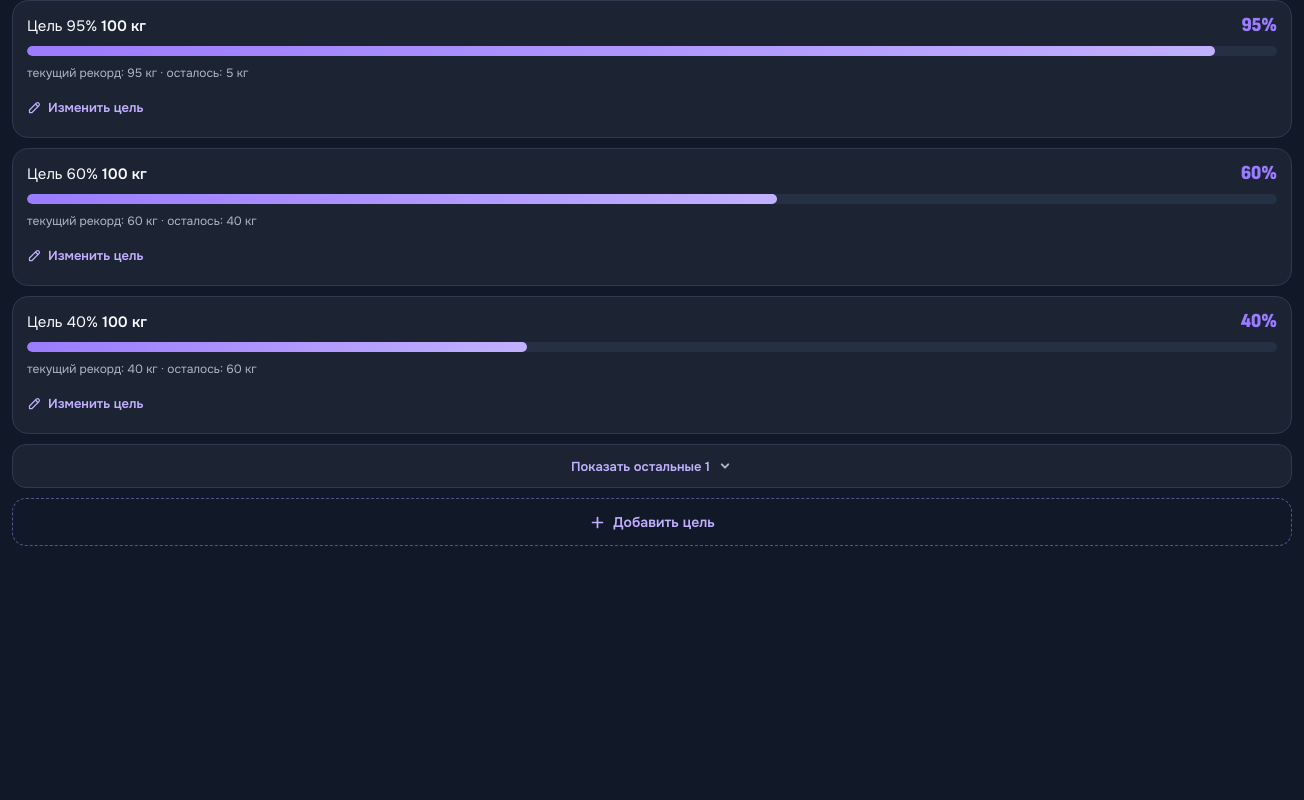
Test: GoalsList › раскрывает все цели в порядке прогресса и снова сворачивает список
Click the button "Показать остальные 1" at (652, 466), box x1=12 y1=444 x2=1292 y2=488
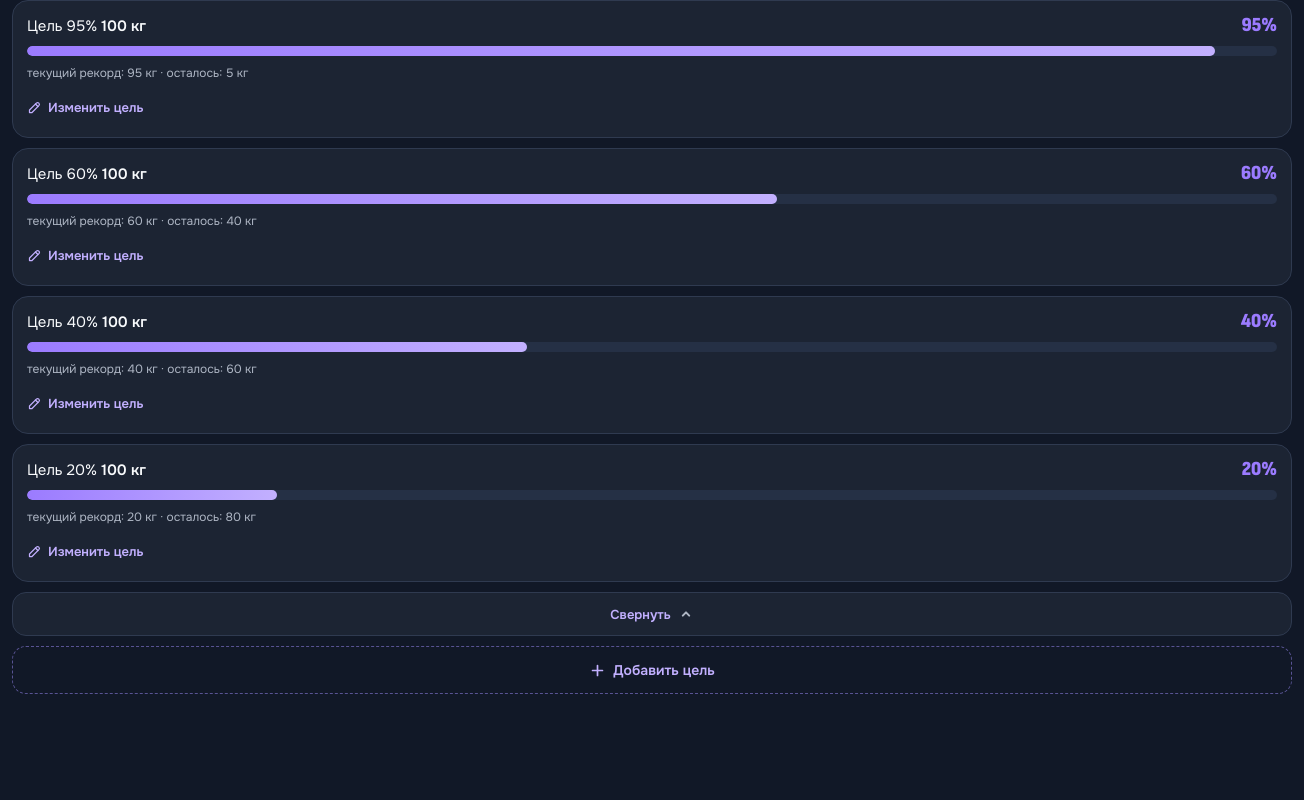
Click the button "Свернуть" at (652, 614), box x1=12 y1=592 x2=1292 y2=636
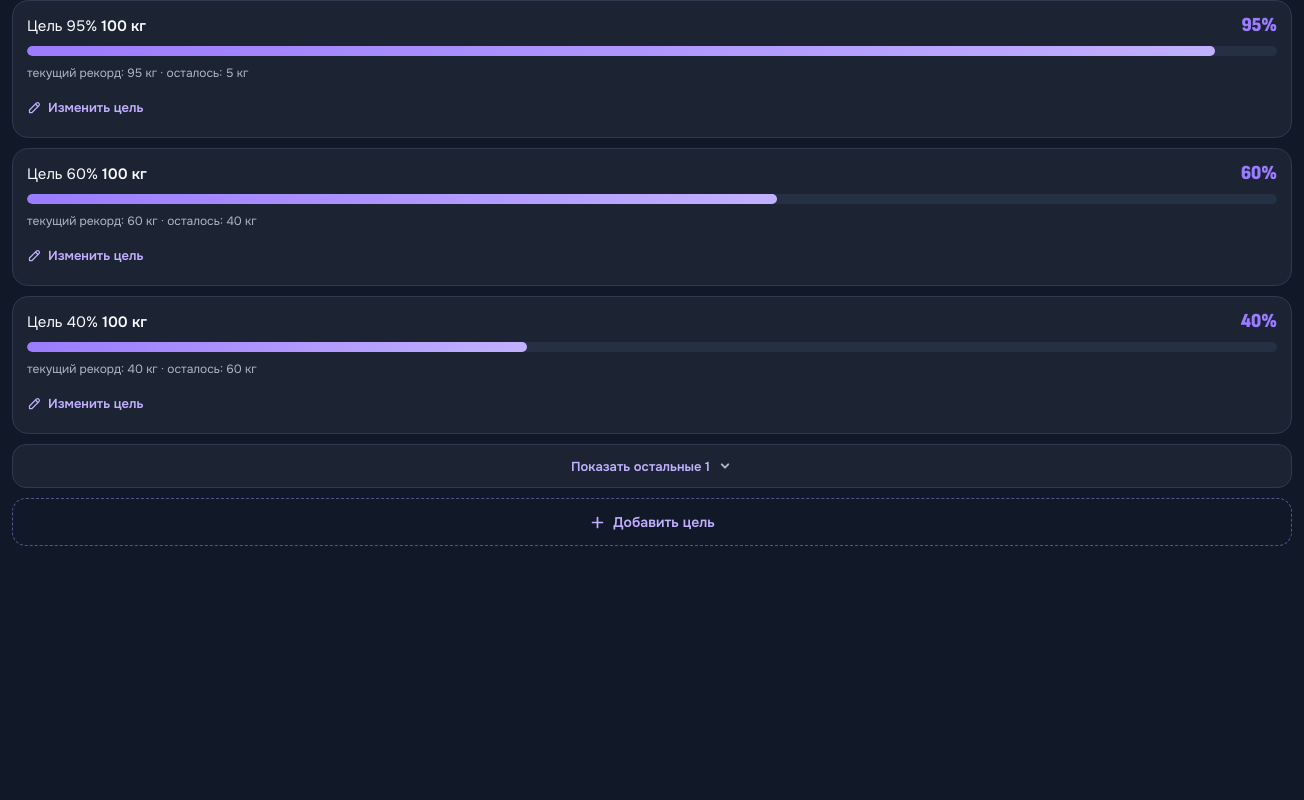
Now the text "Цель 20%" is gone
